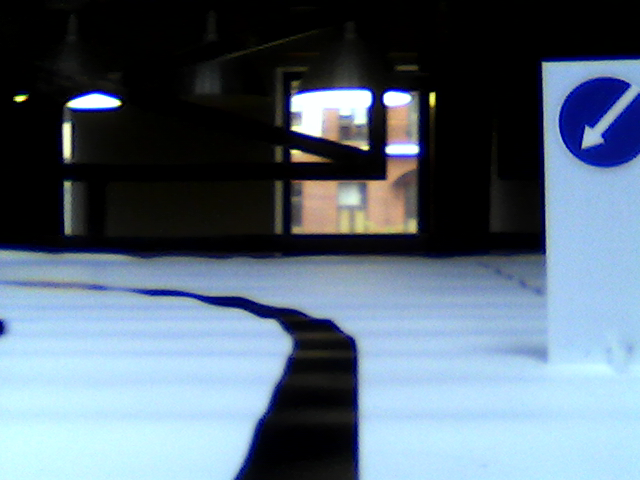prep: (554, 72, 638, 171)
